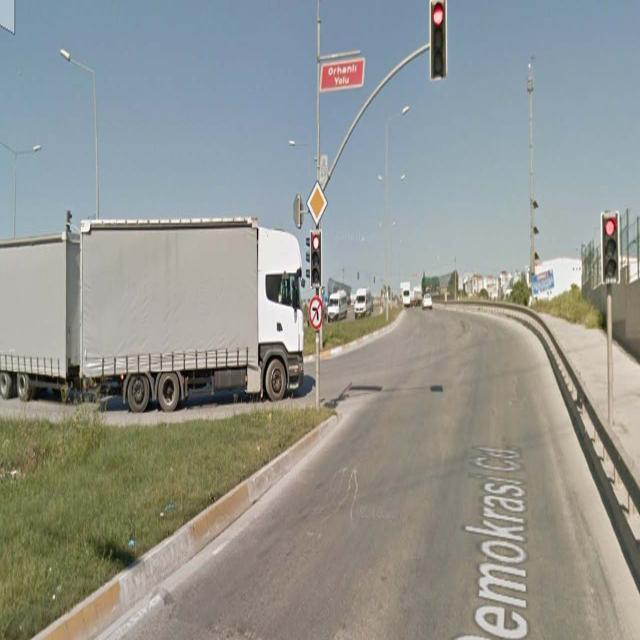kirmizi: (429, 1, 447, 80), (310, 229, 320, 287)
soladonulmez: (308, 295, 322, 329)
